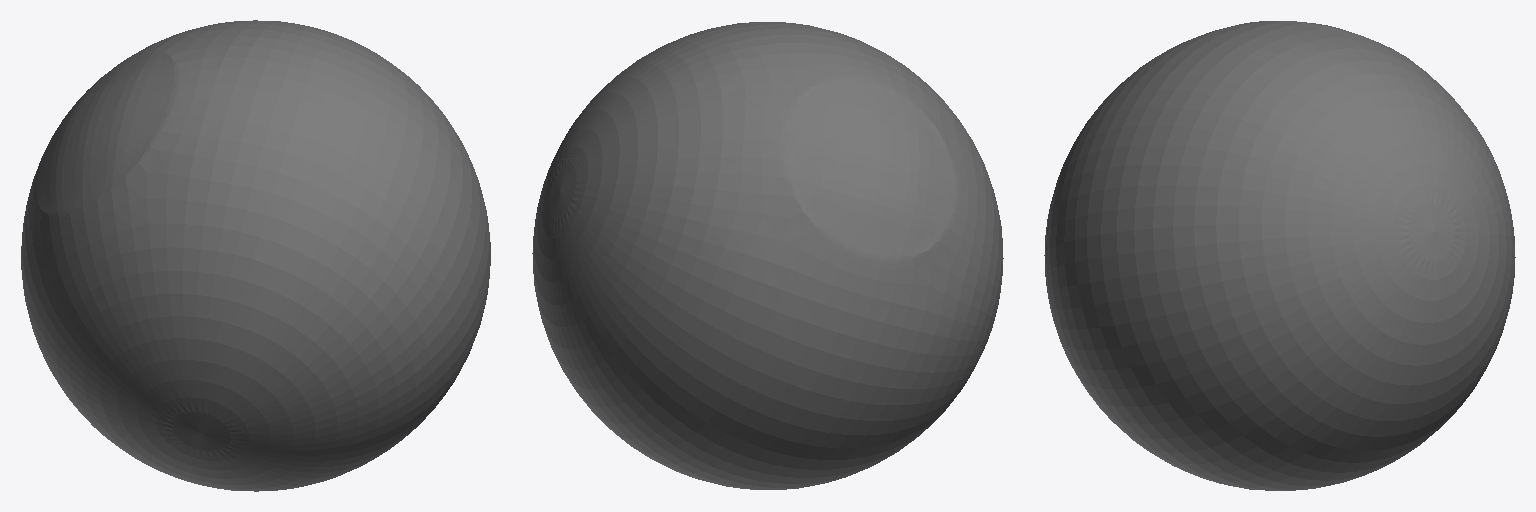
URDF robot description (11_ball):
<?xml version="1.0"?>
<robot name="11_ball">
  <link name="base">
    <visual>
      <geometry>
        <mesh filename="11_ball.obj" scale="1 1 1"/>
      </geometry>
      <material name="gray">
        <color rgba="0.5 0.5 0.5 1.0"/>
      </material>
    </visual>
    <collision>
      <geometry>
        <mesh filename="11_ball.obj" scale="1 1 1"/>
      </geometry>
    </collision>
    <inertial>
      <mass value="1.000"/>
      <inertia
          ixx="0.001032" ixy="0.000000" ixz="0.000000"
          iyy="0.001032" iyz="0.000000"
          izz="0.001034"/>
      <origin xyz="-0.156942 -0.081025 0.833085" rpy="0 0 0"/>
    </inertial>
  </link>
</robot>

--- Facts derived from the render (not from the file) ---
3 views of the same robot in one strip: view 1: azimuth 30°, elevation 25°; view 2: azimuth 150°, elevation 25°; view 3: azimuth 270°, elevation 25° (orthographic).
Robot: 11_ball — 1 links, 0 joints (none); root link base; default pose: every joint at zero.
Links seen in each view (by area): view 1: base; view 2: base; view 3: base.
Link boxes in pixels (box(x1,y1,x2,y2)): base: box(21, 20, 490, 491); base: box(532, 22, 1003, 489); base: box(1044, 21, 1515, 490).
Bounding box of the posed robot: 0.0788 × 0.0788 × 0.0786 m (x, y, z).
1 mesh visuals loaded from 1 distinct referenced files (1 OBJ).
